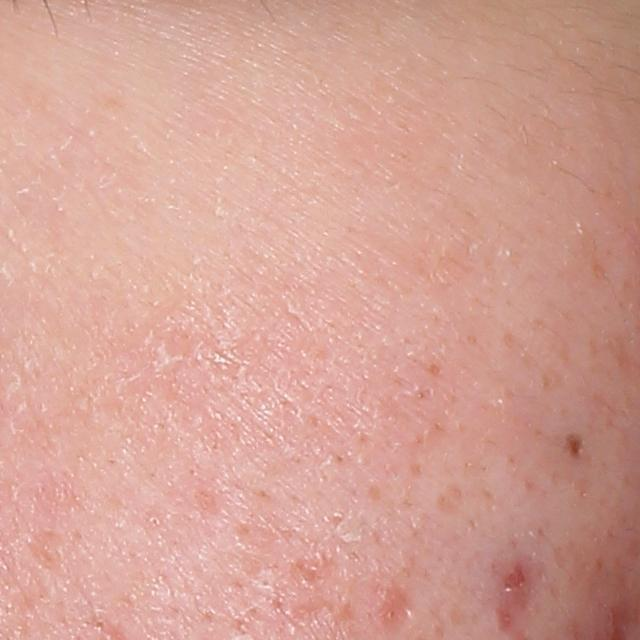atrophic_scar: (376, 592, 417, 634)
